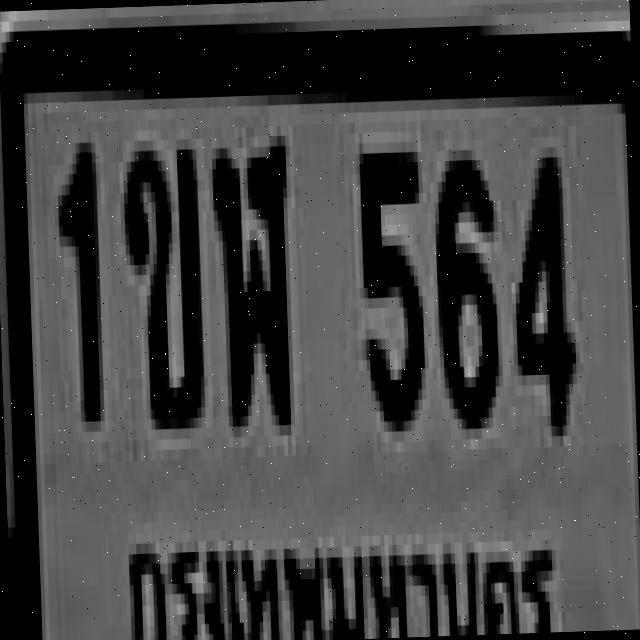1: (51, 132, 100, 412)
11KhorKhai: (118, 138, 201, 420)
4: (506, 146, 574, 426)
5: (354, 142, 422, 422)
51LorChula: (210, 126, 290, 417)
6: (428, 144, 496, 414)
Bangkok: (117, 512, 559, 640)
